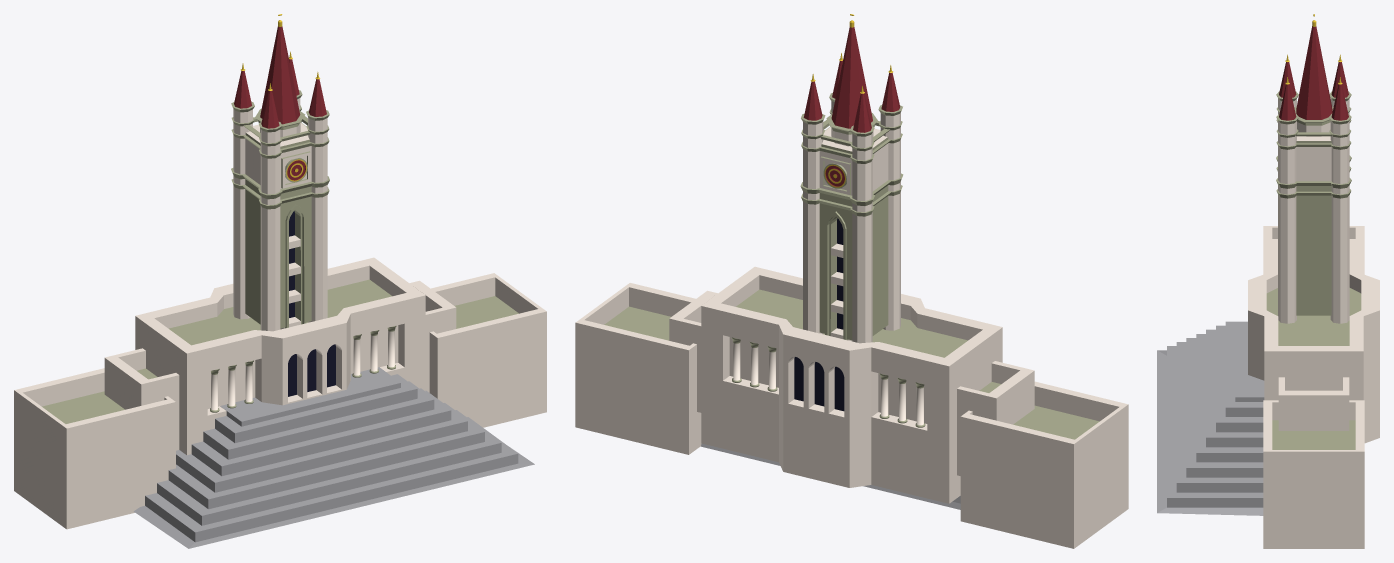
The model's file is MuseumFixed.fbx.
3 renders of one model, left to right at view 1: azimuth 30°, elevation 25°; view 2: azimuth 150°, elevation 25°; view 3: azimuth 270°, elevation 25°, orthographic. The views are drawn at different scales.
Parts seen in each view (by area): view 1: Cube.224; view 2: Cube.224; view 3: Cube.224.
Part boxes in pixels (x1,y1,x2,y2): Cube.224: [14, 14, 546, 548]; Cube.224: [575, 14, 1128, 548]; Cube.224: [1157, 14, 1379, 548].
Size of the model in its own units: 305 by 266 by 127.
